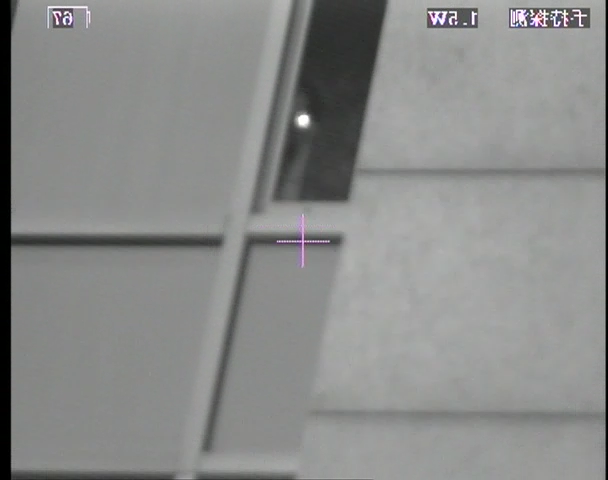my: (295, 112, 311, 126)
